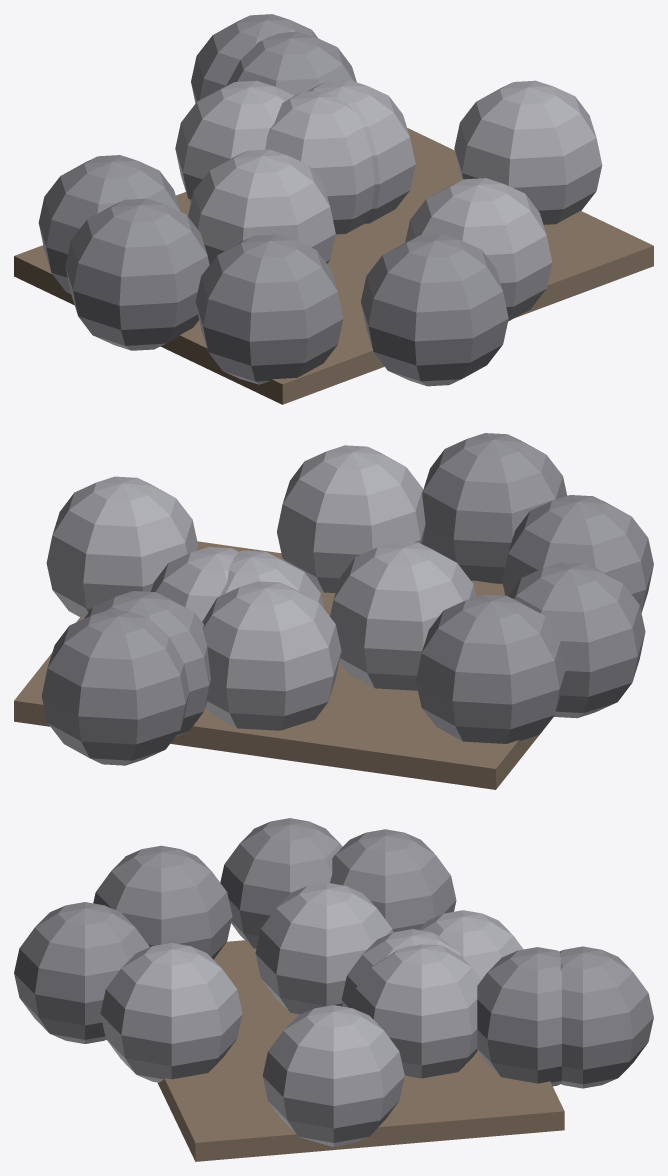
Rendered from ws_ruin_camp_ammo.glb.
The picture shows the model from 3 angles, top to bottom: view 1: azimuth 30°, elevation 25°; view 2: azimuth 150°, elevation 25°; view 3: azimuth 270°, elevation 25°; orthographic projection. The views are drawn at different scales.
Visible parts, largest first — view 1: ws_ruin_camp_ammo; view 2: ws_ruin_camp_ammo; view 3: ws_ruin_camp_ammo.
Part boxes in pixels (x1,y1,x2,y2): ws_ruin_camp_ammo: (14, 14, 653, 404); ws_ruin_camp_ammo: (14, 433, 653, 789); ws_ruin_camp_ammo: (14, 818, 653, 1161).
Bounding box in the file's own units: 1.4 × 0.34 × 1.53.
